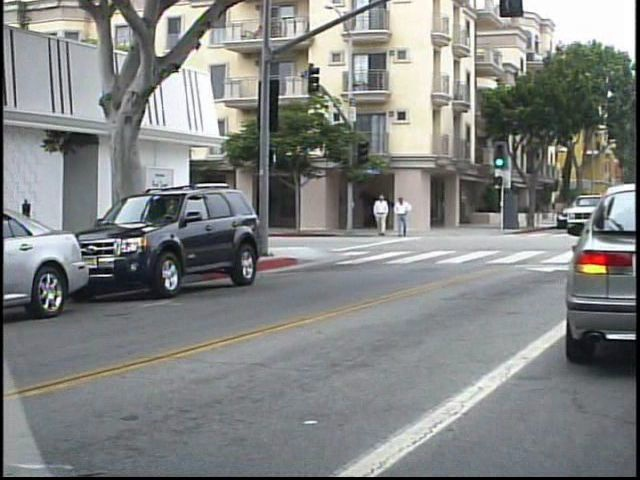person: (367, 191, 387, 243), (389, 193, 410, 240)
